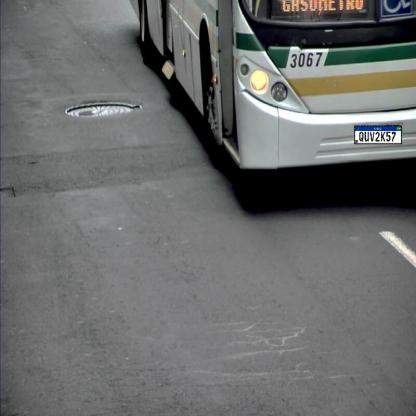PlacaM: (354, 126, 402, 144)
